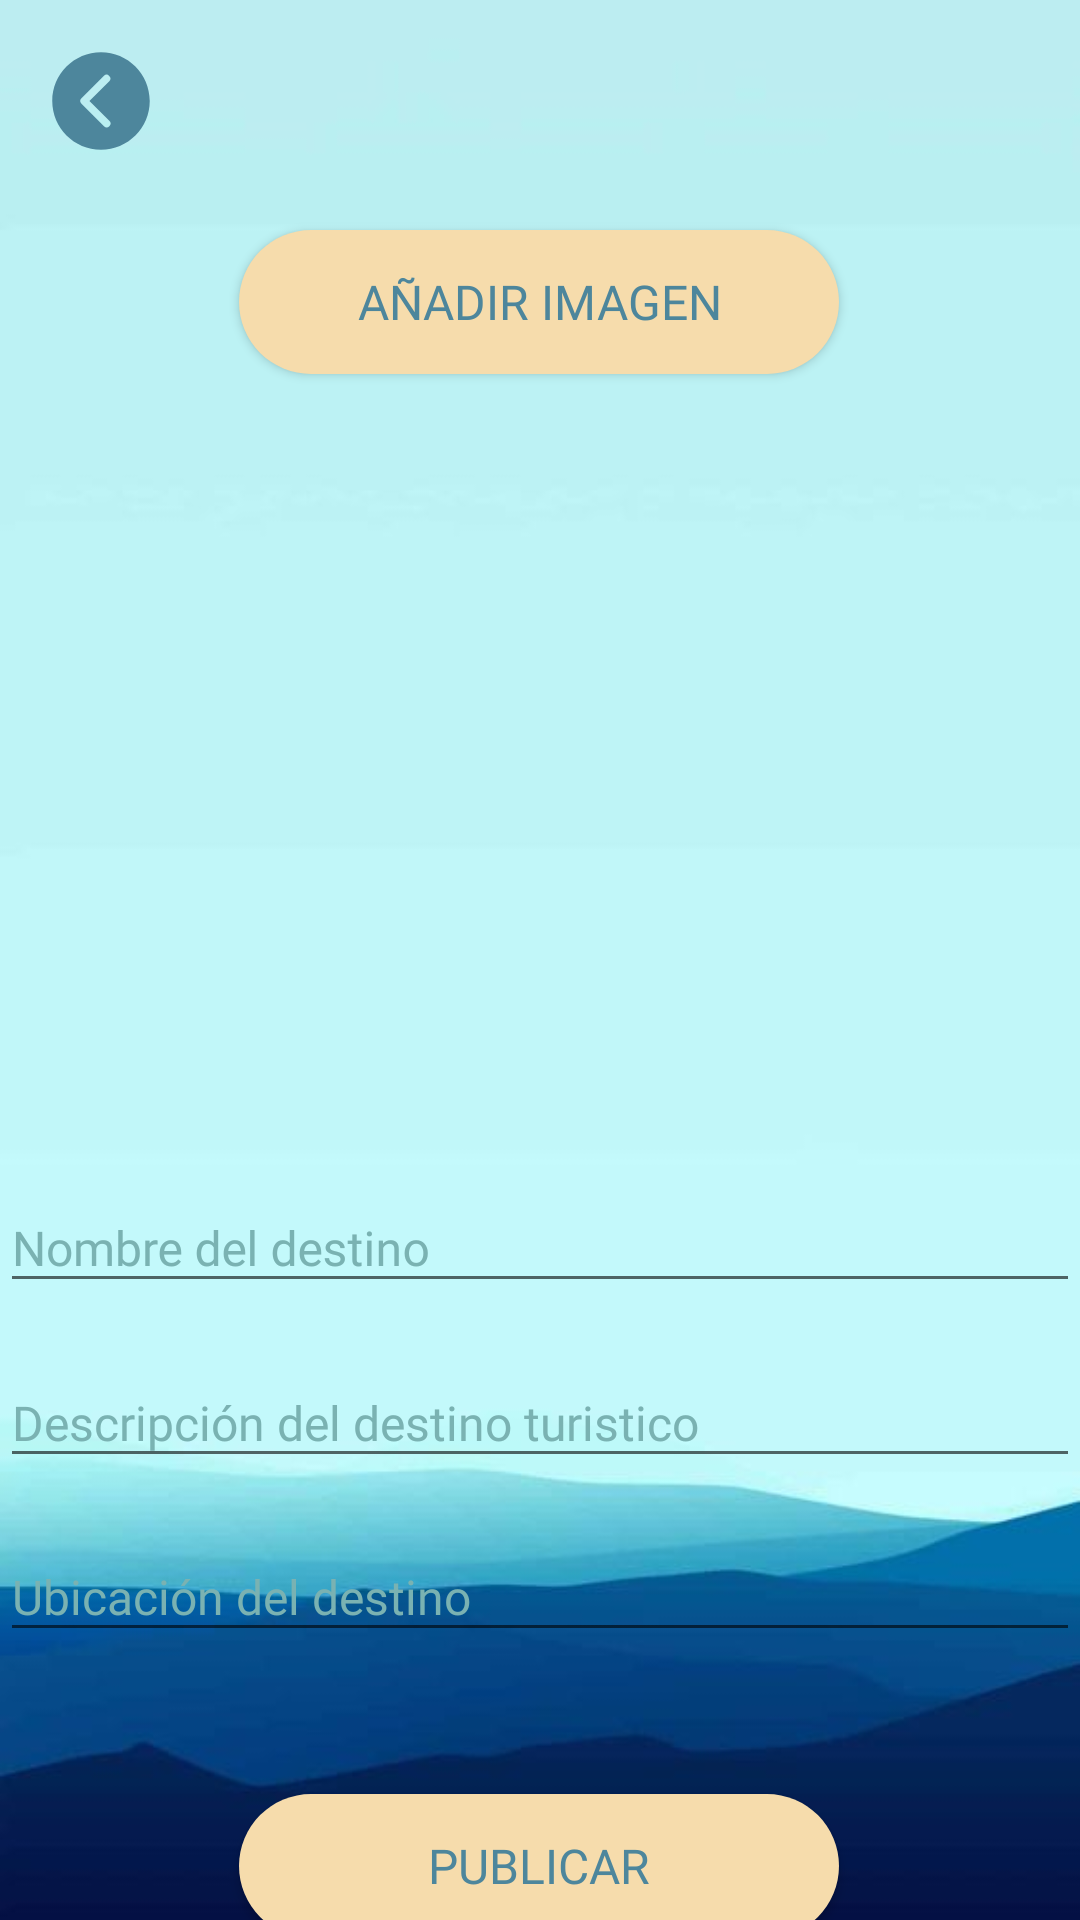

Icons on this 1080px×1920px Android screen, each with its box as (x1, y1, x2, y2):
back: (52, 52, 150, 150)
